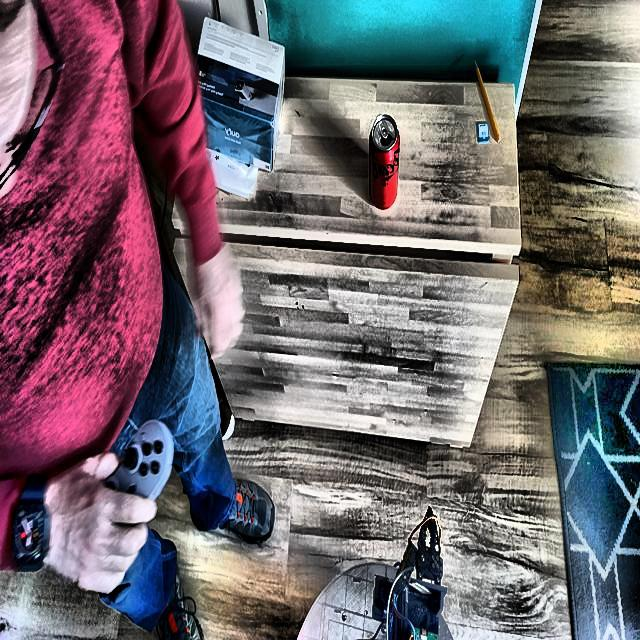CokeZero-can: (366, 113, 399, 210)
